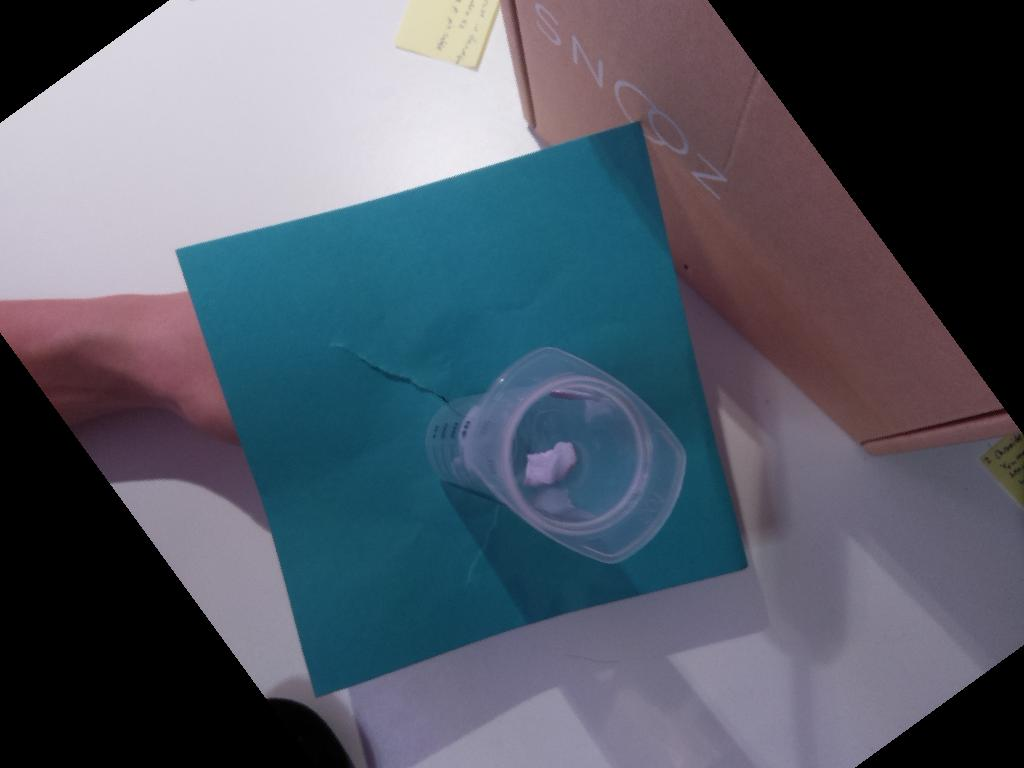dirty: (467, 345, 689, 566)
